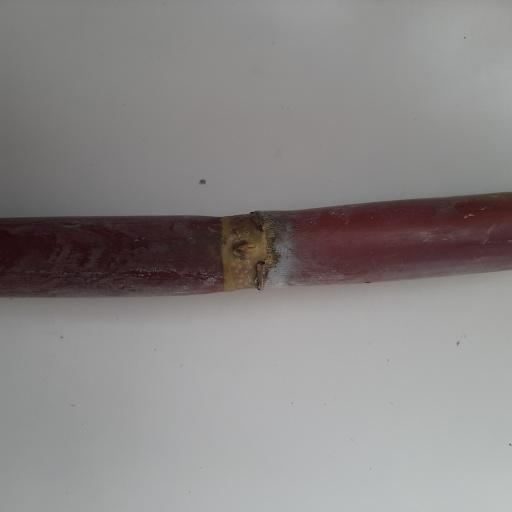Bud: (230, 236, 257, 260)
